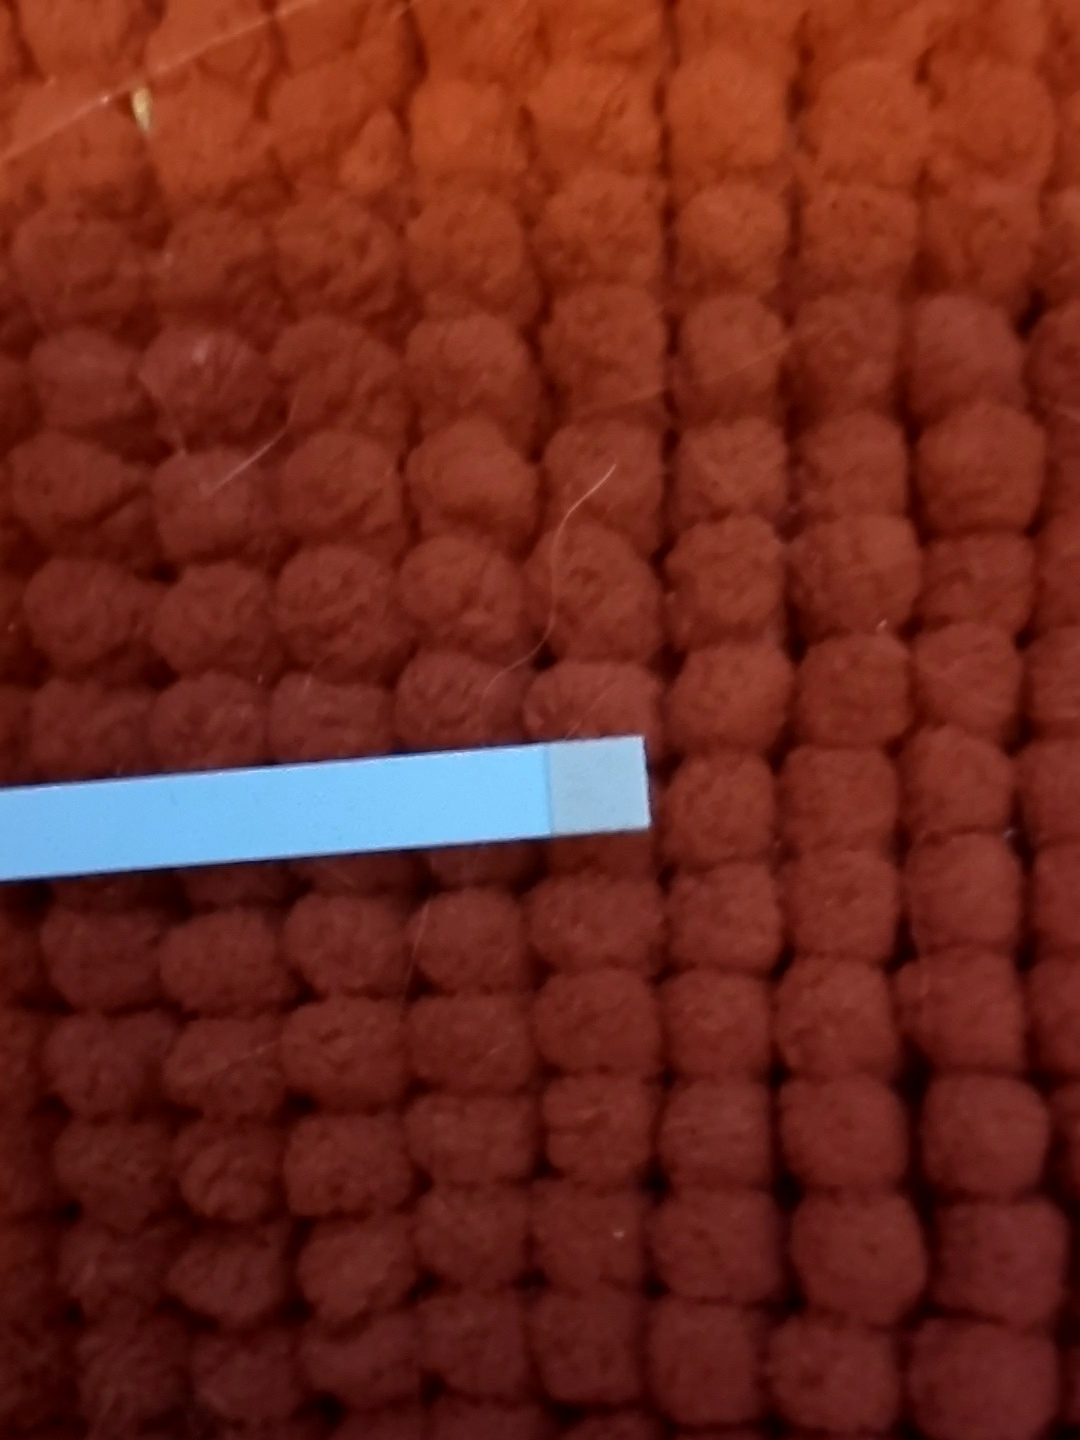keto-tip: (539, 734, 653, 842)
